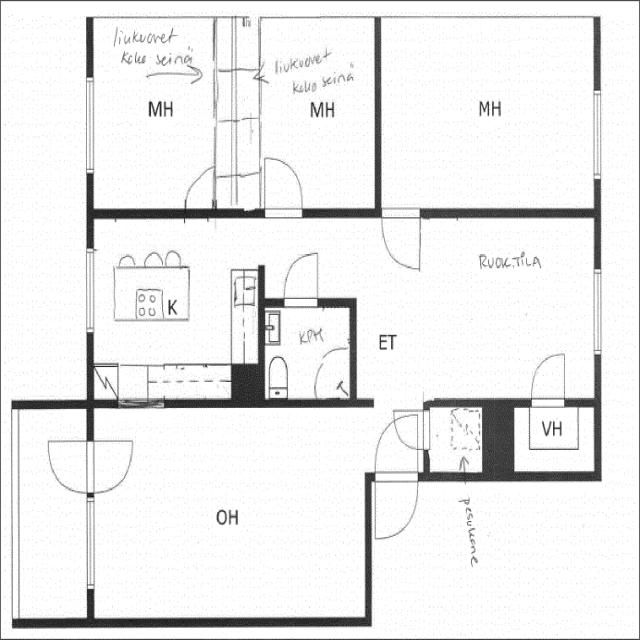door: (95, 397, 370, 626), (378, 8, 598, 213), (260, 298, 352, 401), (513, 356, 589, 473), (258, 152, 305, 222), (372, 472, 420, 540), (380, 208, 425, 274), (527, 347, 569, 407), (281, 250, 321, 308), (392, 408, 433, 452)
window: (587, 84, 607, 183), (80, 71, 98, 179), (588, 266, 608, 362), (80, 242, 98, 338), (84, 494, 98, 592)
zone: (367, 215, 600, 401), (88, 218, 263, 404), (92, 15, 215, 216), (259, 11, 378, 213), (260, 303, 352, 402), (213, 39, 260, 207), (507, 401, 598, 475), (427, 402, 485, 474), (44, 434, 94, 498), (211, 18, 262, 72), (84, 438, 134, 493)
